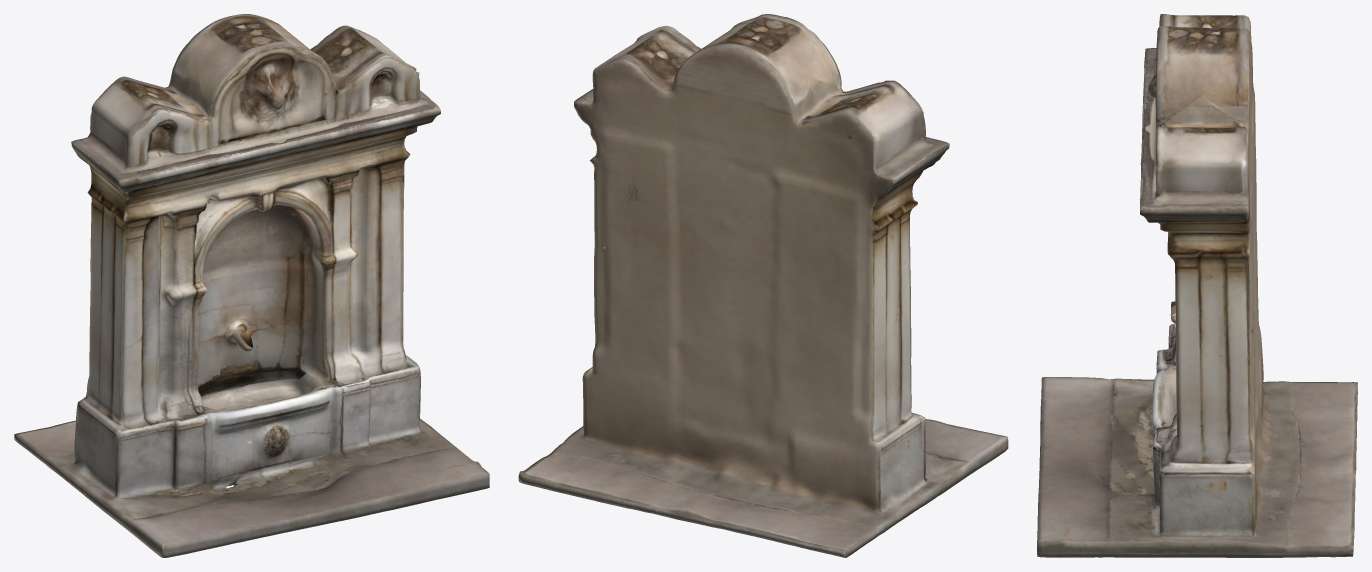
The model's file is asset.glb.
3 renders of one model, left to right at view 1: azimuth 30°, elevation 25°; view 2: azimuth 150°, elevation 25°; view 3: azimuth 270°, elevation 25°, orthographic.
Bounding box in the file's own units: 1.59 × 2 × 1.3.
Materials: 1 (1 with a texture image).
